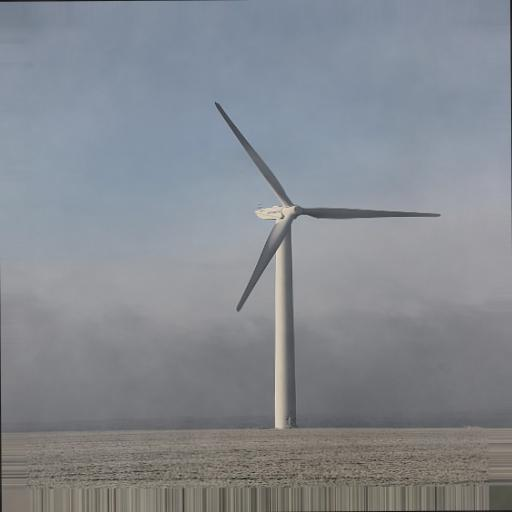wind turbine: (212, 103, 443, 426)
